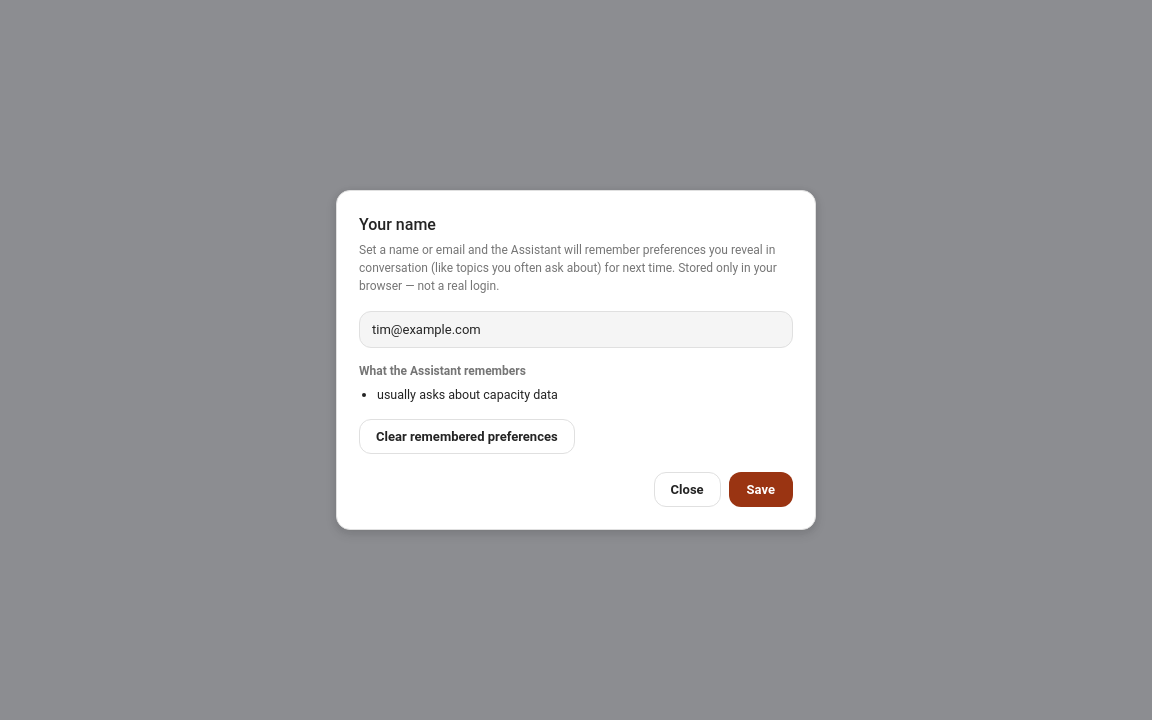
Test: ProfileDialog › clears preferences and updates the list when clear is clicked
This screenshot has width=1152, height=720.
expect the list item "usually asks about capacity data" is shown: met, box [377,387,558,402]
Click the button "Clear remembered preferences": coordinates (467, 436) [359,419,575,454]
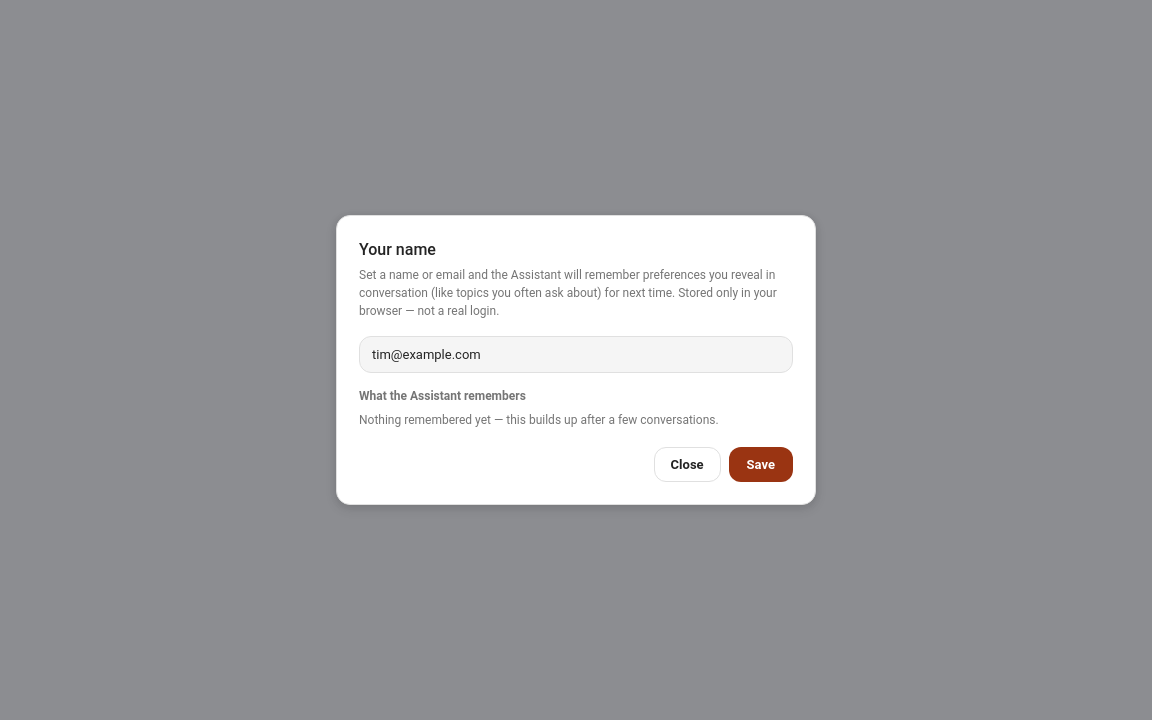
expect the list item "usually asks about capacity data" is gone: met
expect the text "Nothing remembered yet" is shown: met, box [359,413,719,427]
